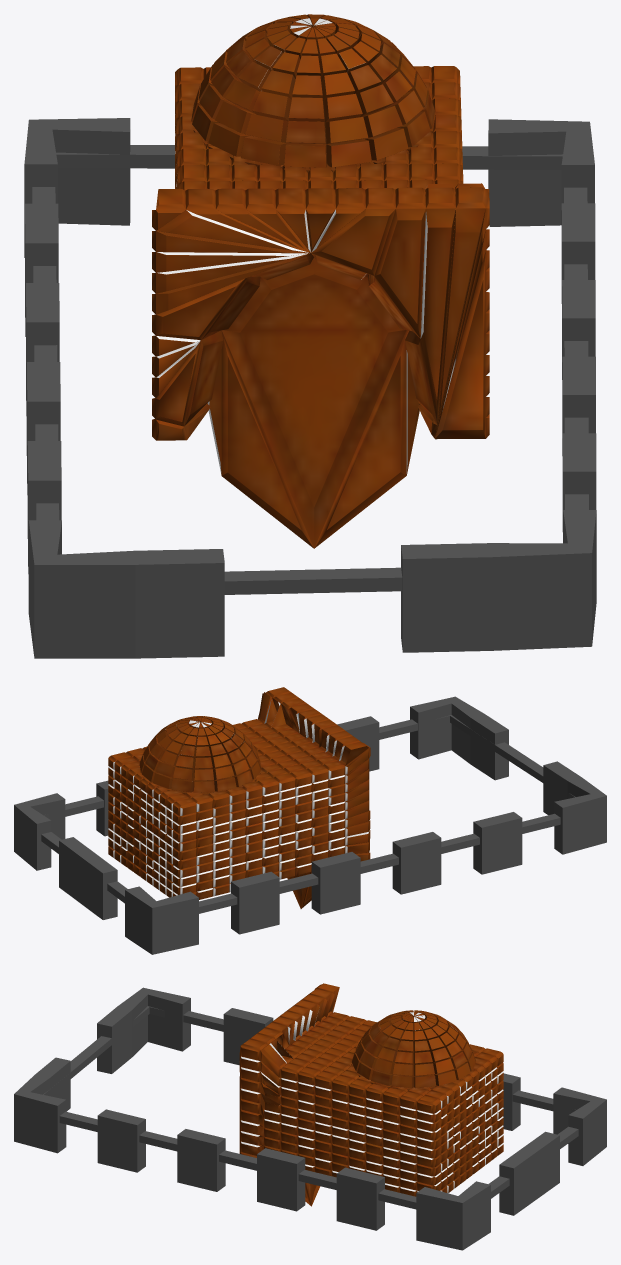
Rendered from MazoleyAlashHana.glb.
The picture shows the model from 3 angles, top to bottom: view 1: azimuth 30°, elevation 25°; view 2: azimuth 150°, elevation 25°; view 3: azimuth 270°, elevation 25°; orthographic projection. The views are drawn at different scales.
Visible parts, largest first — view 1: Areas:building, Plane; view 2: Areas:building, Plane; view 3: Areas:building, Plane.
Part boxes in pixels (bbox=[...]): Areas:building: bbox=[152, 14, 489, 548]; Plane: bbox=[24, 118, 596, 658]; Areas:building: bbox=[108, 687, 370, 908]; Plane: bbox=[14, 696, 606, 954]; Areas:building: bbox=[239, 983, 503, 1206]; Plane: bbox=[14, 987, 606, 1250].
Size of what is drawn, in the model's own units: 9.6e+07 by 4.47e+07 by 1.12e+08.
Materials: 3 (1 with a texture image).
